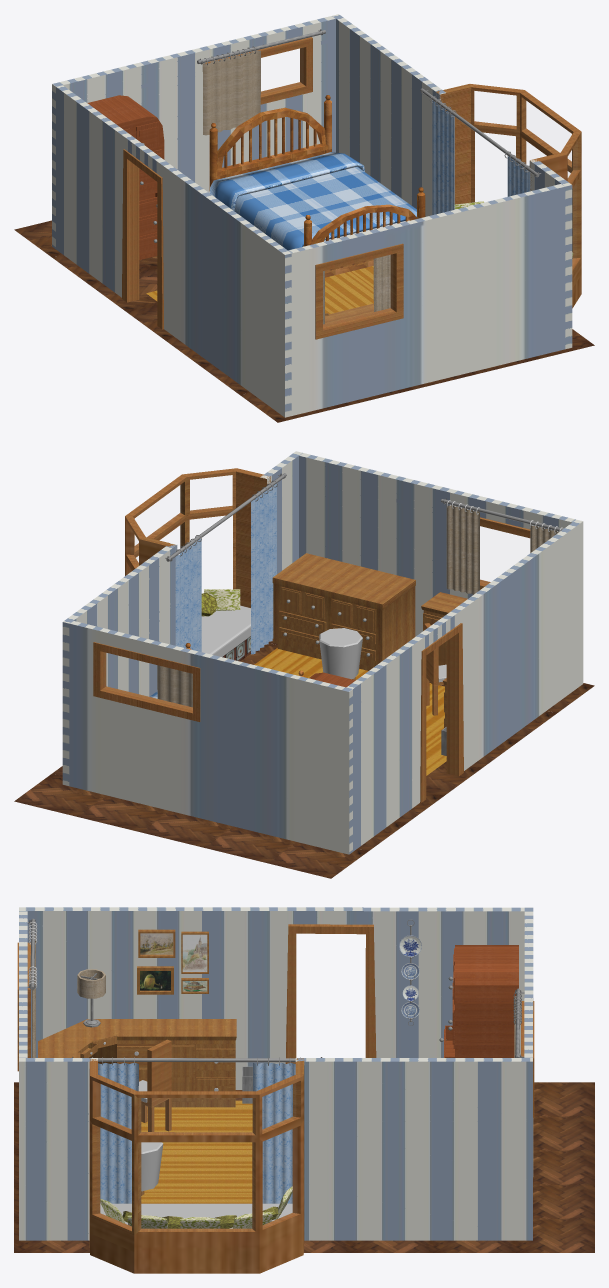
Rendered from Chambre.FBX.
3 views of the same model, one above another, from view 1: azimuth 30°, elevation 25°; view 2: azimuth 150°, elevation 25°; view 3: azimuth 270°, elevation 25° (orthographic). The views are drawn at different scales.
Parts seen in each view (by area): view 1: Mur - Chambre, Couverture de lit, moulure lit, plancher, rideau 5, Cord de porte, Armoire, Corps de fenetre 01, rideau 2, Tapis, Corps de fenetre 002, rideau 4 (+3 smaller); view 2: Mur - Chambre, plancher, Commode, rideau 1, Cord de porte, Corps de fenetre 002, rideau 4, rideau 2, Tapis, Matlas de fenetre, Tabouret, rideau 5 (+4 smaller); view 3: Mur - Chambre, plancher, poigner de bureau 3, Tapis, Armoire, rideau 1, rideau 2, Cord de porte, Matlas de fenetre, chaise, Coussin1, peinture 2 (+8 smaller).
Part boxes in pixels (left/top/right/bottom): Mur - Chambre: left=52, top=14, right=581, bottom=417; Couverture de lit: left=209, top=152, right=416, bottom=250; moulure lit: left=209, top=95, right=425, bottom=277; plancher: left=14, top=220, right=594, bottom=422; rideau 5: left=202, top=50, right=260, bottom=135; Cord de porte: left=122, top=149, right=163, bottom=329; Armoire: left=87, top=95, right=164, bottom=259; Corps de fenetre 01: left=315, top=243, right=403, bottom=339; rideau 2: left=432, top=100, right=454, bottom=214; Tapis: left=146, top=266, right=373, bottom=314; Corps de fenetre 002: left=205, top=37, right=312, bottom=104; rideau 4: left=373, top=254, right=390, bottom=311; Mur - Chambre: left=62, top=451, right=583, bottom=854; plancher: left=14, top=639, right=594, bottom=878; Commode: left=272, top=553, right=415, bottom=670; rideau 1: left=251, top=483, right=276, bottom=654; Cord de porte: left=420, top=623, right=463, bottom=802; Corps de fenetre 002: left=93, top=642, right=200, bottom=721; rideau 4: left=446, top=504, right=479, bottom=594; rideau 2: left=175, top=539, right=201, bottom=651; Tapis: left=254, top=648, right=446, bottom=775; Matlas de fenetre: left=201, top=605, right=250, bottom=656; Tabouret: left=319, top=628, right=362, bottom=680; rideau 5: left=157, top=665, right=192, bottom=707; Mur - Chambre: left=19, top=907, right=533, bottom=1273; plancher: left=14, top=1082, right=594, bottom=1252; poigner de bureau 3: left=38, top=1019, right=236, bottom=1107; Tapis: left=141, top=1100, right=252, bottom=1203; Armoire: left=444, top=945, right=518, bottom=1057; rideau 1: left=98, top=1063, right=138, bottom=1203; rideau 2: left=253, top=1062, right=295, bottom=1203; Cord de porte: left=285, top=924, right=376, bottom=1063; Matlas de fenetre: left=100, top=1203, right=292, bottom=1228; chaise: left=141, top=1039, right=171, bottom=1131; Coussin1: left=100, top=1186, right=292, bottom=1228; peinture 2: left=182, top=934, right=207, bottom=971.
Size of the model in its own units: 576 by 252 by 735.
